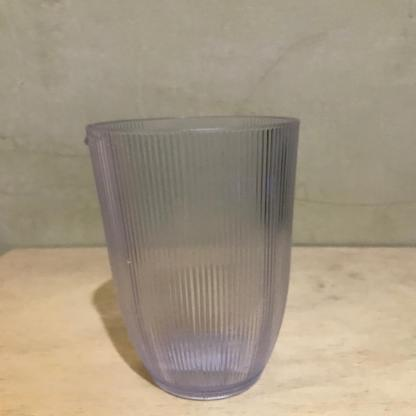glass: (86, 127, 294, 395)
